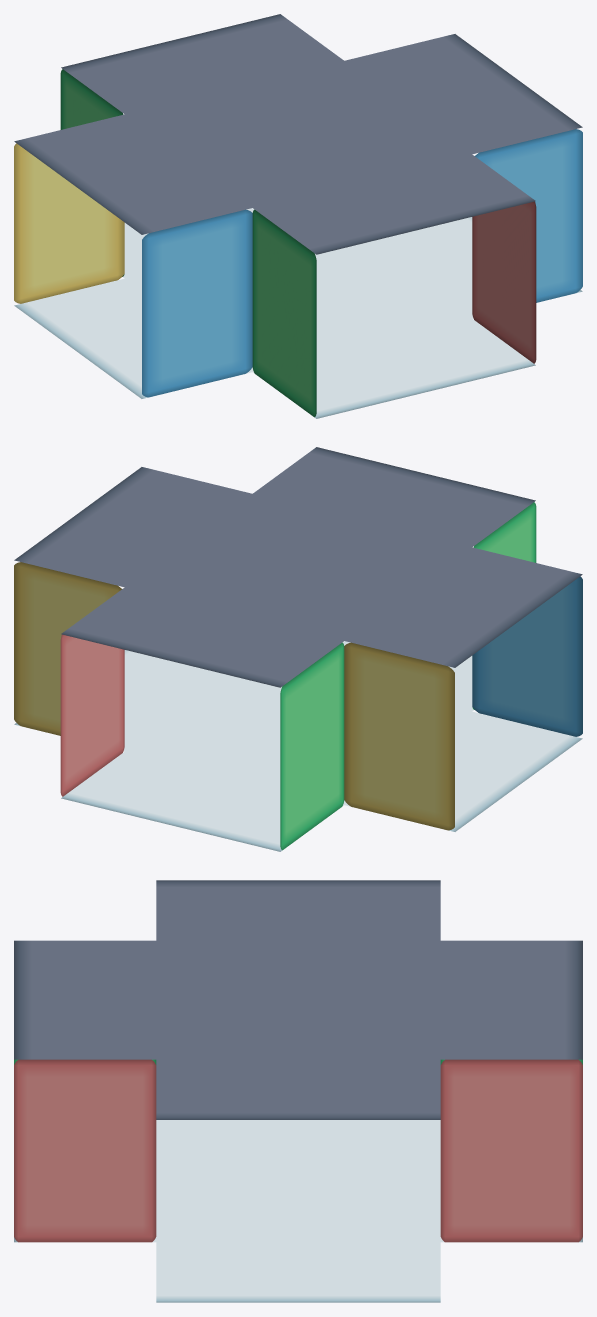
The model's file is X-joint.fbx.
3 renders of one model, top to bottom at view 1: azimuth 30°, elevation 25°; view 2: azimuth 150°, elevation 25°; view 3: azimuth 270°, elevation 25°, orthographic. The views are drawn at different scales.
Visible parts, largest first — view 1: X-joint; view 2: X-joint; view 3: X-joint.
Part boxes in pixels (x1,y1,x2,y2): X-joint: (14,14,582,418); X-joint: (14,447,582,851); X-joint: (14,880,582,1302).
Size of the model in its own units: 37.34 by 13.28 by 37.5.
Materials: 1 (1 with a texture image).
